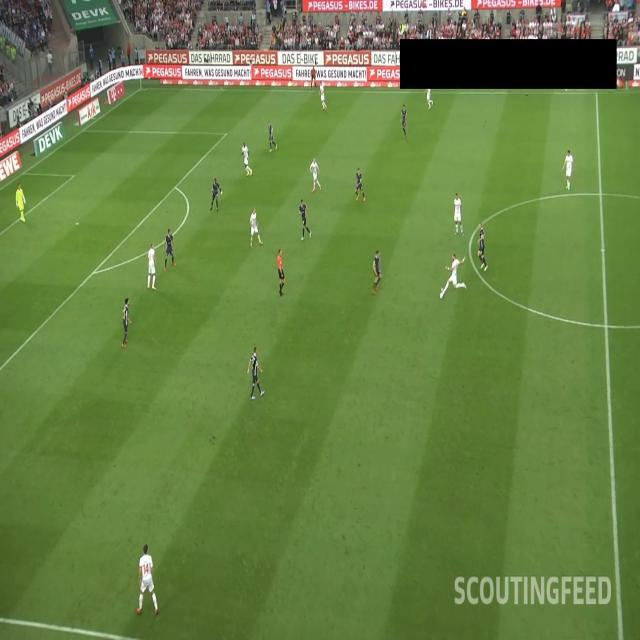ball: (439, 291, 444, 300)
